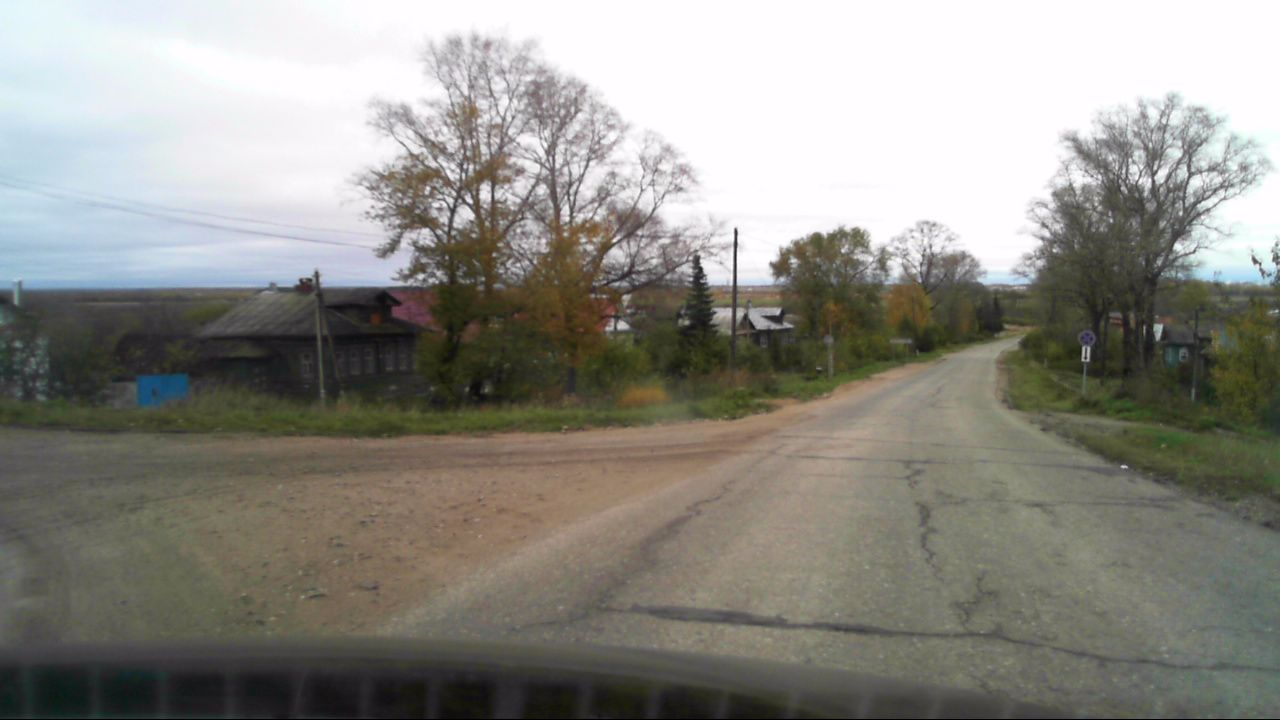No Parking: (1077, 325, 1098, 345)
